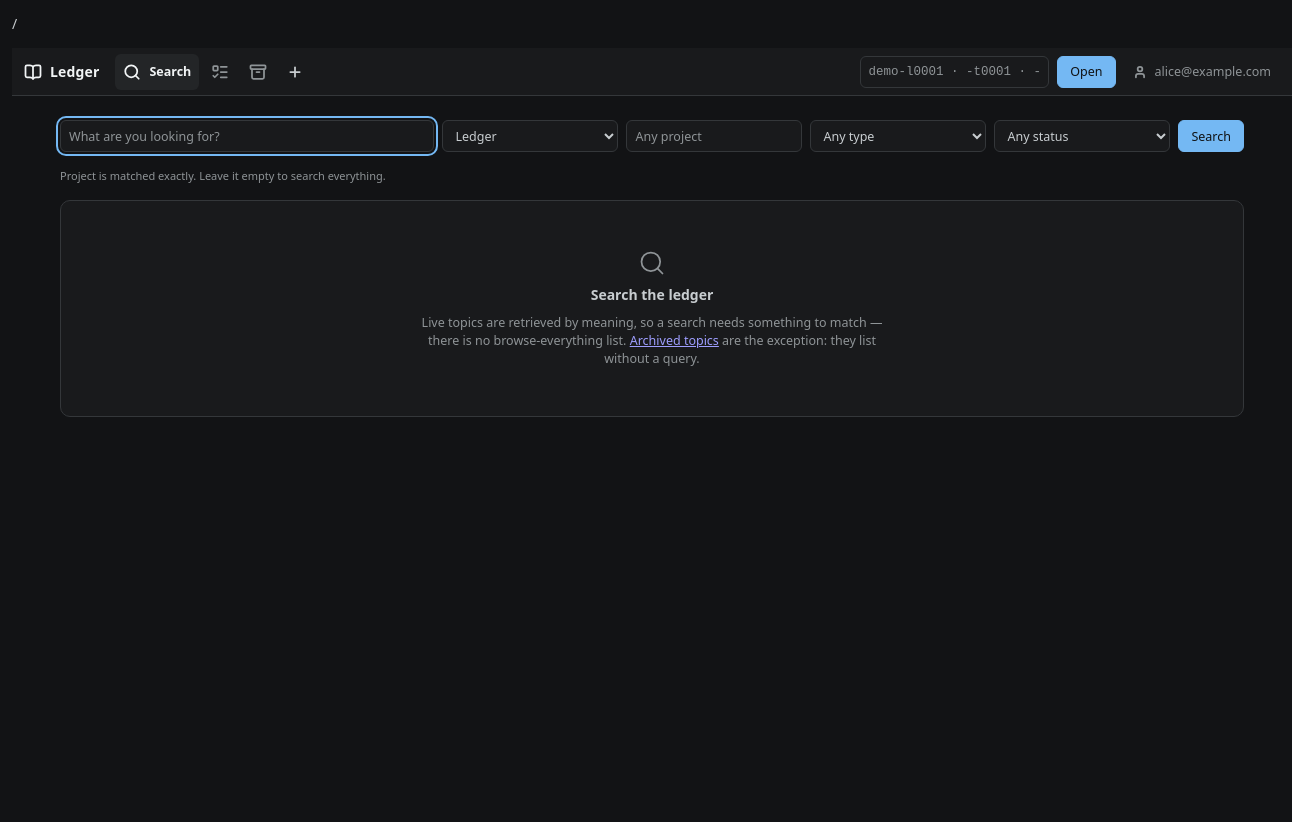
Scenario: App › navigates between the two listings and to the create form
The width and height of the screenshot is (1292, 822).
Step 1. Click the button named "Archived" → (258, 72), box [241, 54, 275, 90]
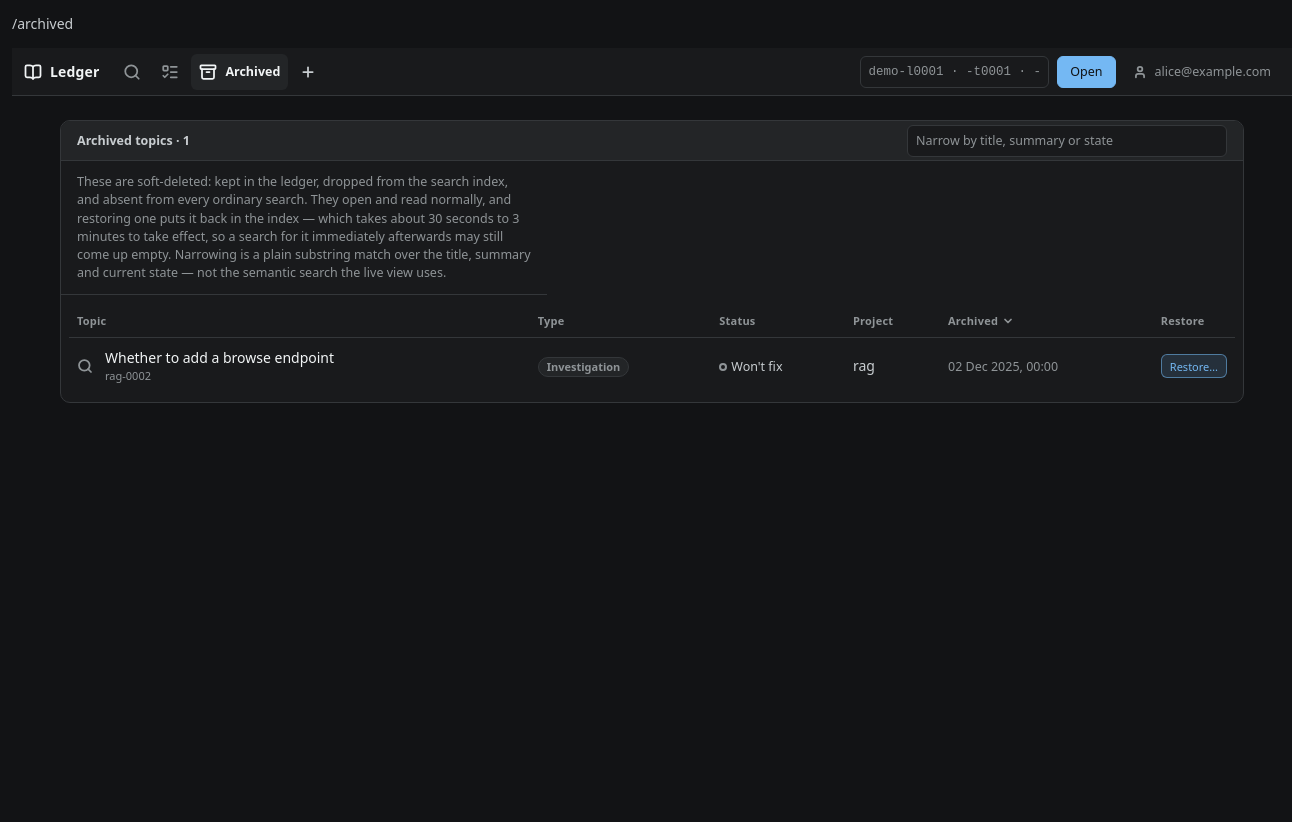
expect the text with test id "address" reads "/archived": met, box [12, 14, 73, 33]
Step 2. Click the button named "New topic" → (308, 72), box [292, 56, 324, 88]
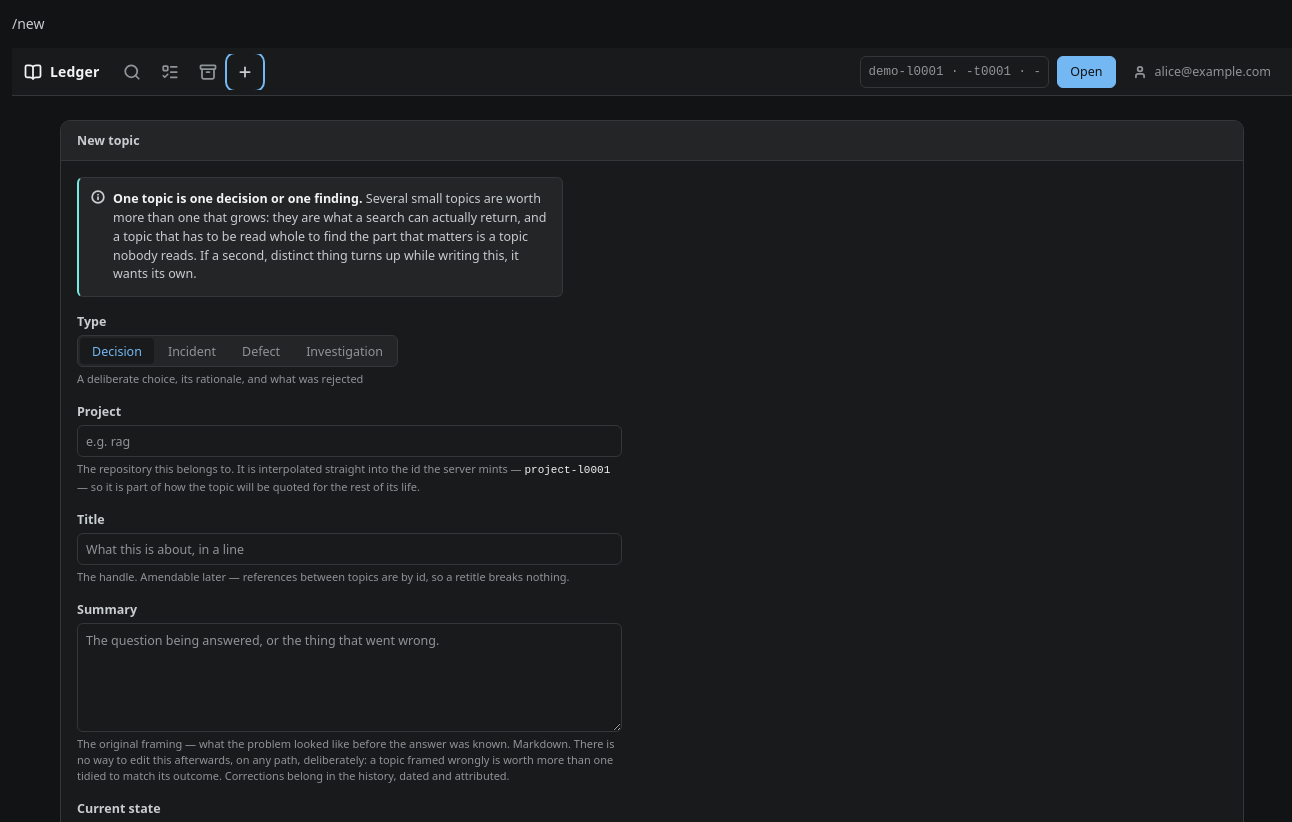
expect the text with test id "address" reads "/new": met, box [12, 14, 44, 33]
expect the text "New topic" is shown: met, box [77, 132, 140, 150]
